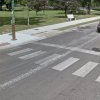crosswalk: (7, 47, 100, 82)
